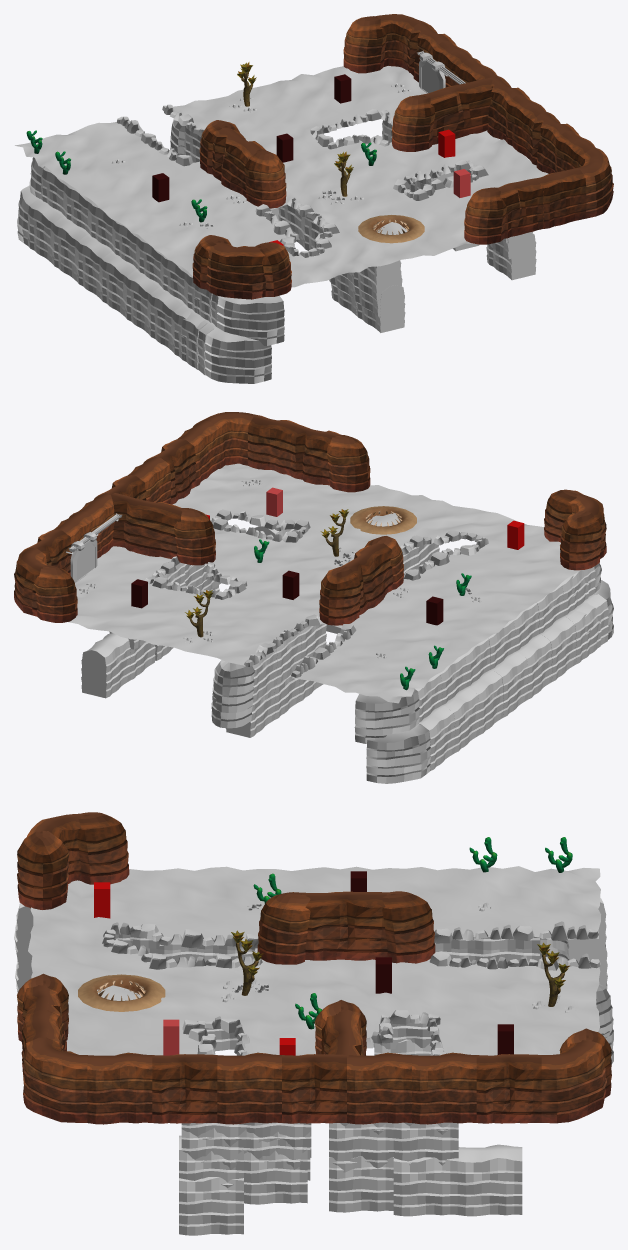
The model's file is Level1_Room4.fbx.
3 renders of one model, top to bottom at view 1: azimuth 30°, elevation 25°; view 2: azimuth 150°, elevation 25°; view 3: azimuth 270°, elevation 25°, orthographic. The views are drawn at different scales.
Parts seen in each view (by area): view 1: Plane074, level1_wall04, level1_wall01, Stone041, Base, Lil_Cactus002, level1_door, Cylinder001, Stone205; view 2: Plane074, level1_wall01, level1_wall04, Stone041, Base, level1_door, Cylinder001, Lil_Cactus002, Stone205; view 3: level1_wall04, Plane074, level1_wall01, Stone041, Base, Lil_Cactus002, Cylinder001, Blurrg1, EnemyTurret, Stormtrooper3.
Part boxes in pixels (x1,y1,x2,y2): Plane074: (15, 66, 548, 287); level1_wall04: (192, 14, 613, 299); level1_wall01: (17, 120, 536, 383); Stone041: (116, 104, 488, 257); Base: (358, 215, 424, 243); Lil_Cactus002: (26, 130, 376, 222); level1_door: (419, 52, 445, 93); Cylinder001: (237, 62, 353, 196); Stone205: (112, 83, 411, 228); Plane074: (68, 463, 579, 703); level1_wall01: (81, 525, 613, 783); level1_wall04: (14, 412, 606, 625); Stone041: (144, 509, 488, 677); Base: (350, 506, 416, 534); level1_door: (70, 532, 97, 582); Cylinder001: (185, 509, 348, 637); Lil_Cactus002: (254, 539, 471, 690); Stone205: (79, 478, 481, 658); level1_wall04: (17, 812, 611, 1124); Plane074: (28, 866, 600, 1110); level1_wall01: (14, 898, 613, 1235); Stone041: (102, 921, 600, 1055); Base: (78, 974, 165, 1011); Lil_Cactus002: (253, 837, 572, 1029); Cylinder001: (231, 930, 569, 1006); Blurrg1: (375, 957, 391, 993); EnemyTurret: (163, 1019, 179, 1055); Stormtrooper3: (94, 882, 110, 918).
Size of the model in its own units: 1511 by 517 by 1456.
